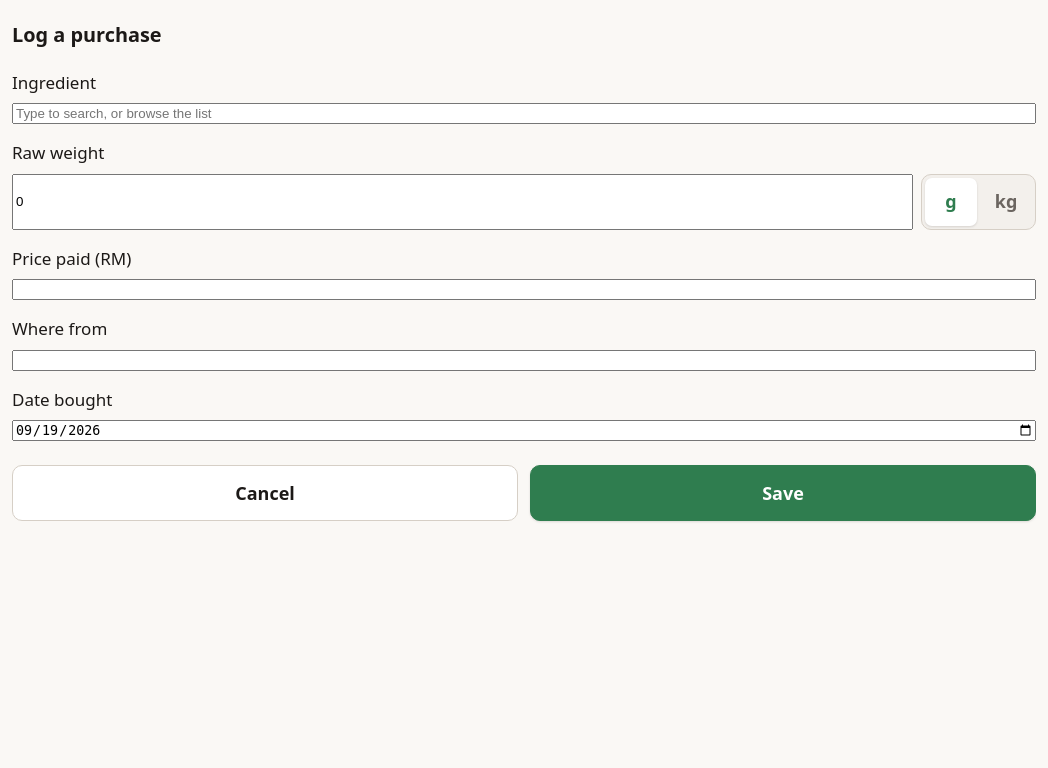
AddBatchForm creating › requires an ingredient
Replace the text in the number field labelled "Raw weight" with "1000" at (462, 202), box [12,174,913,230]
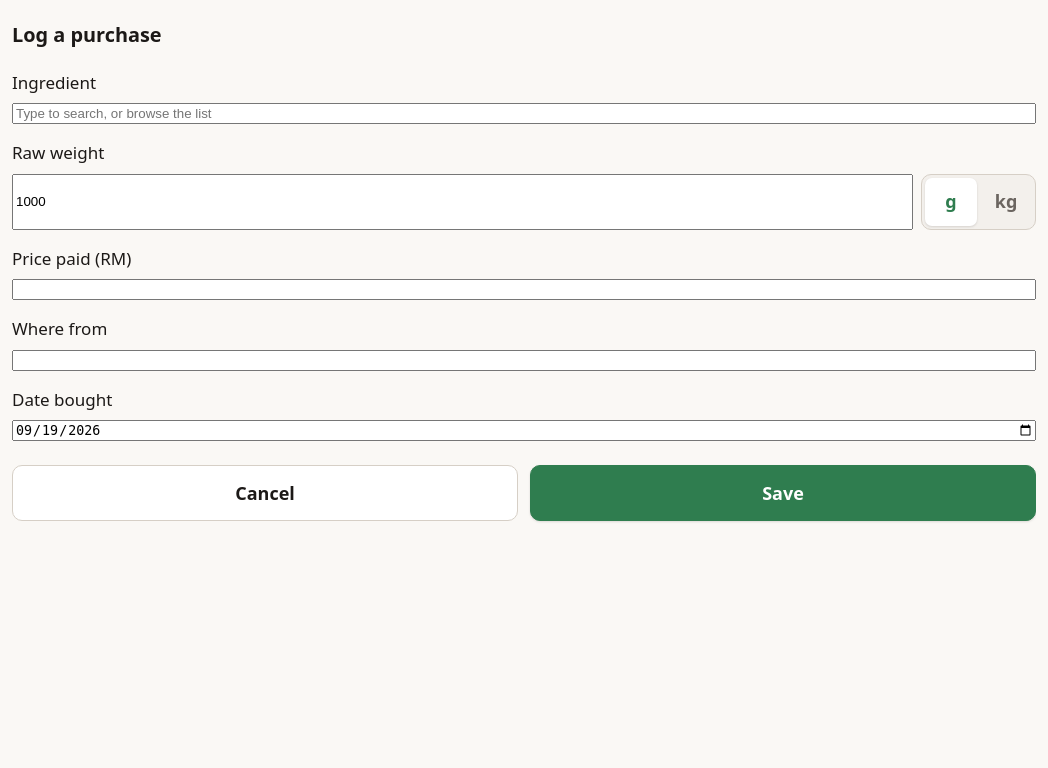
Click the button "Save" at (783, 493), box [530,465,1036,521]
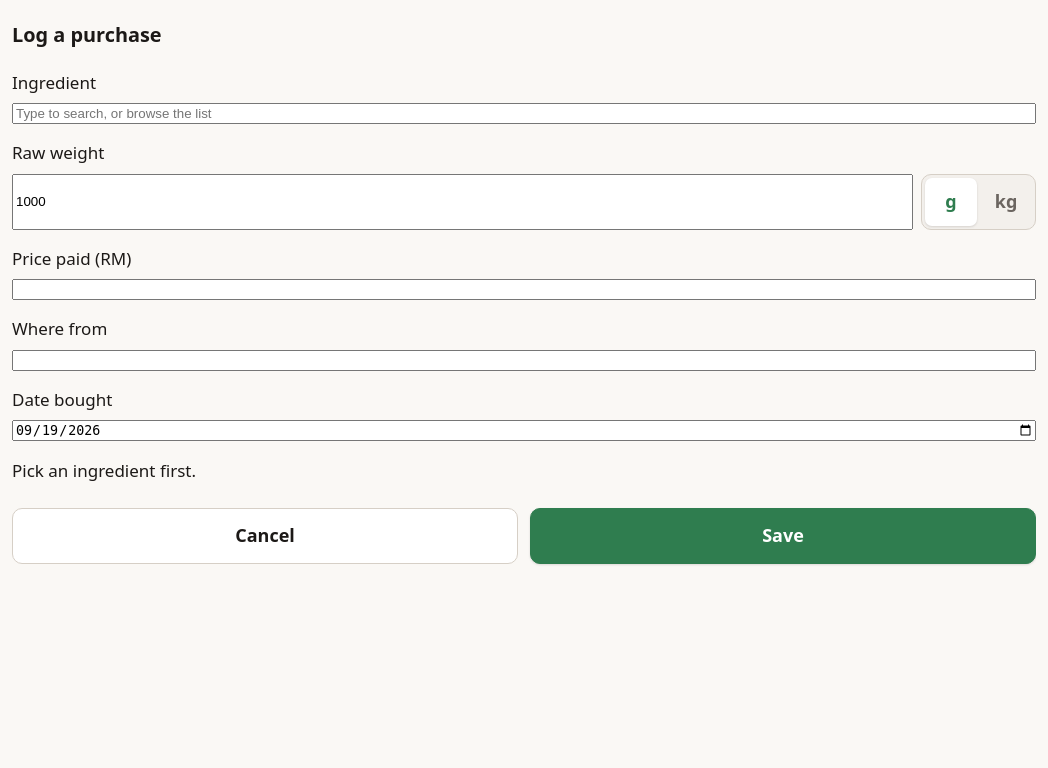
Check: the message shows "ingredient", box [12,459,196,482]
